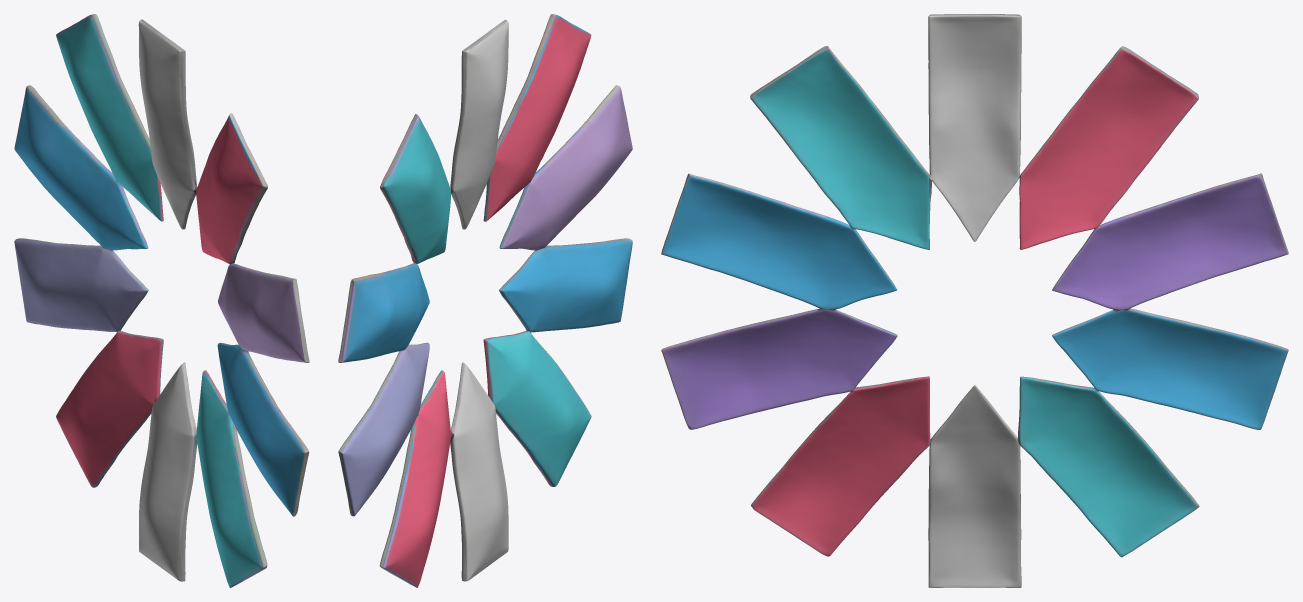
File: json-web-token.glb
3 views of the same model, side by side, from view 1: azimuth 30°, elevation 25°; view 2: azimuth 150°, elevation 25°; view 3: azimuth 270°, elevation 25° (orthographic). The views are drawn at different scales.
Parts seen in each view (by area): view 1: tripo_node_ea17a9d0-8f9e-4ae8-8478-016bb1f09ff7; view 2: tripo_node_ea17a9d0-8f9e-4ae8-8478-016bb1f09ff7; view 3: tripo_node_ea17a9d0-8f9e-4ae8-8478-016bb1f09ff7.
Boxes of the visible parts, x1,y1,x2,y2 form: tripo_node_ea17a9d0-8f9e-4ae8-8478-016bb1f09ff7: (14, 14, 309, 587); tripo_node_ea17a9d0-8f9e-4ae8-8478-016bb1f09ff7: (338, 14, 632, 587); tripo_node_ea17a9d0-8f9e-4ae8-8478-016bb1f09ff7: (661, 14, 1288, 587).
Bounding box in the file's own units: 0.0759 × 1 × 0.9933.
1 material, 1 textured.
